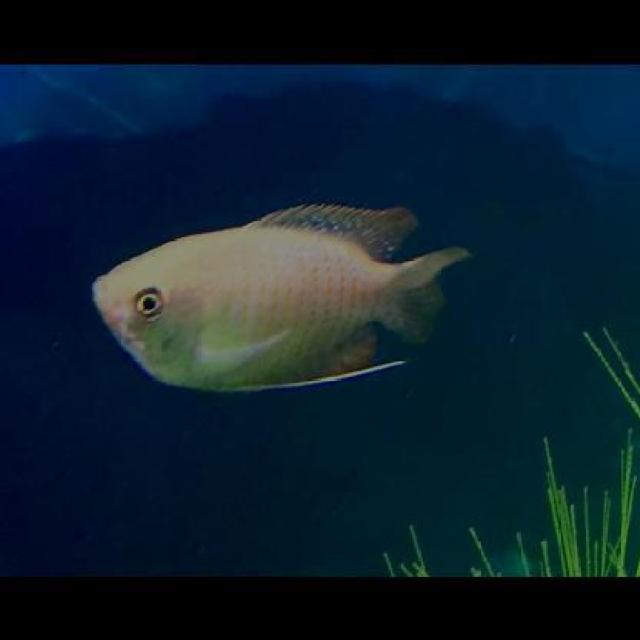Gourami: (91, 194, 475, 400)
